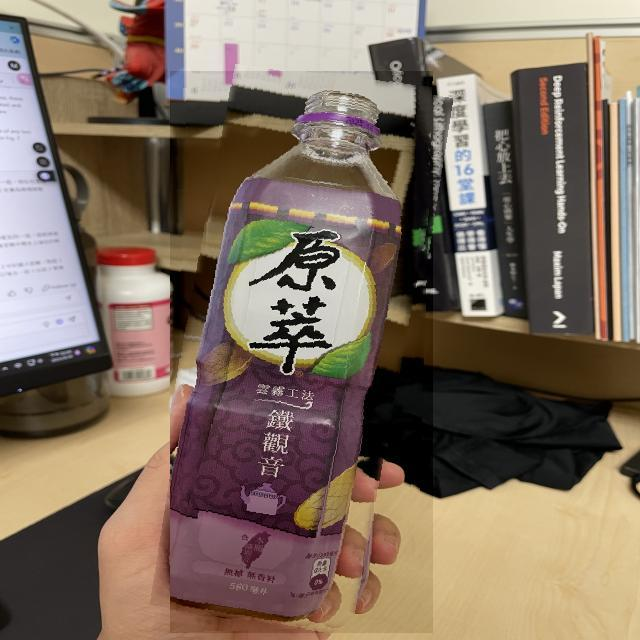YuanTsui_TieGuanYing: (170, 71, 433, 633)
